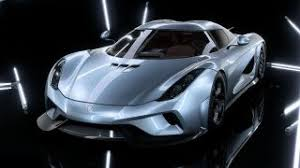car: (39, 21, 269, 141)
